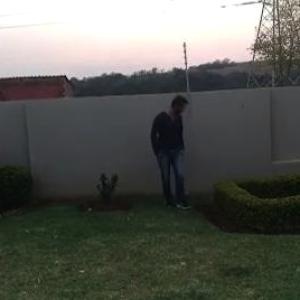follow: (148, 85, 189, 223)
